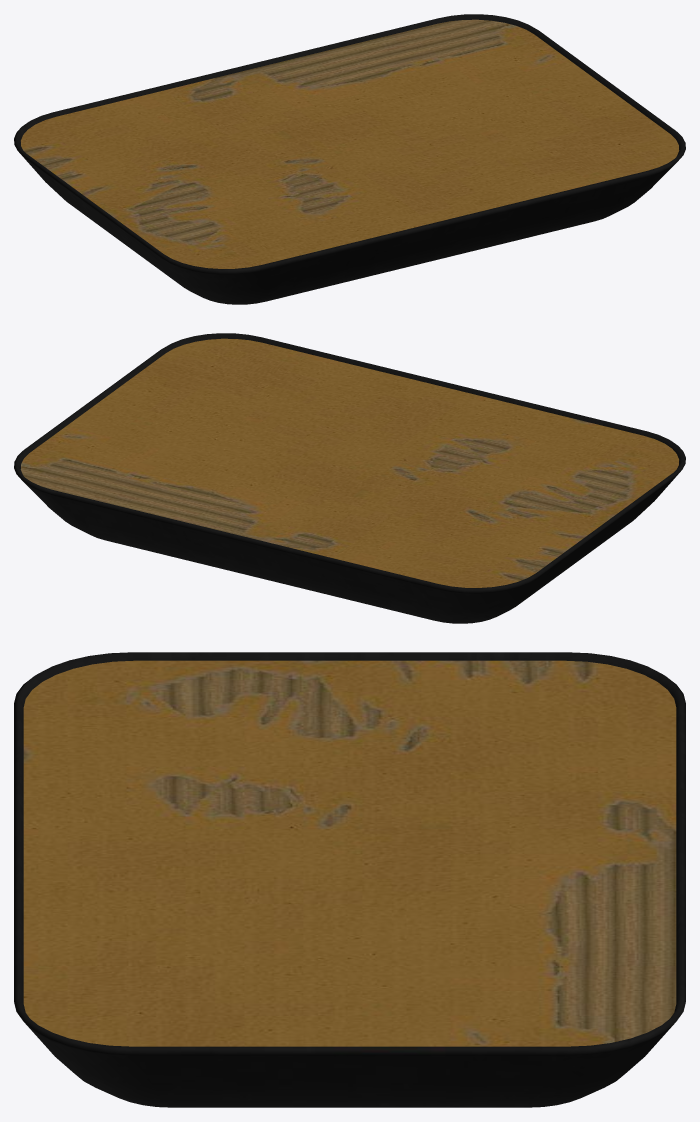
File: Steak.fbx
The picture shows the model from 3 angles, top to bottom: view 1: azimuth 30°, elevation 25°; view 2: azimuth 150°, elevation 25°; view 3: azimuth 270°, elevation 25°; orthographic projection. The views are drawn at different scales.
Visible parts, largest first — view 1: plastic, box; view 2: plastic, box; view 3: plastic, box.
Boxes of the visible parts, left/top/right/bottom form: plastic: left=21, top=19, right=679, bottom=268; box: left=14, top=14, right=685, bottom=304; plastic: left=20, top=338, right=678, bottom=587; box: left=14, top=333, right=685, bottom=623; plastic: left=23, top=660, right=676, bottom=1046; box: left=14, top=652, right=685, bottom=1107.
Bounding box in the file's own units: 0.2563 × 0.0349 × 0.1826.
